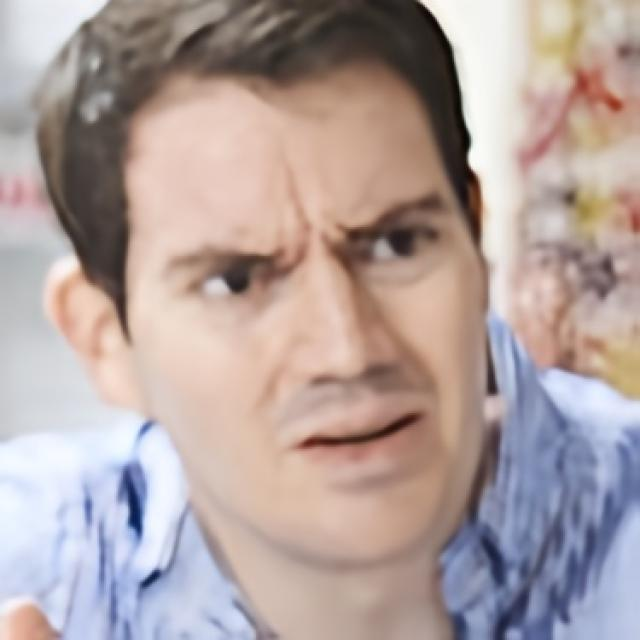anger: (126, 67, 489, 567)
